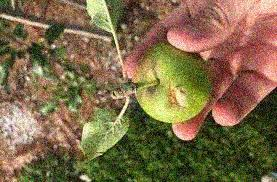rotten apple: (129, 43, 213, 127)
